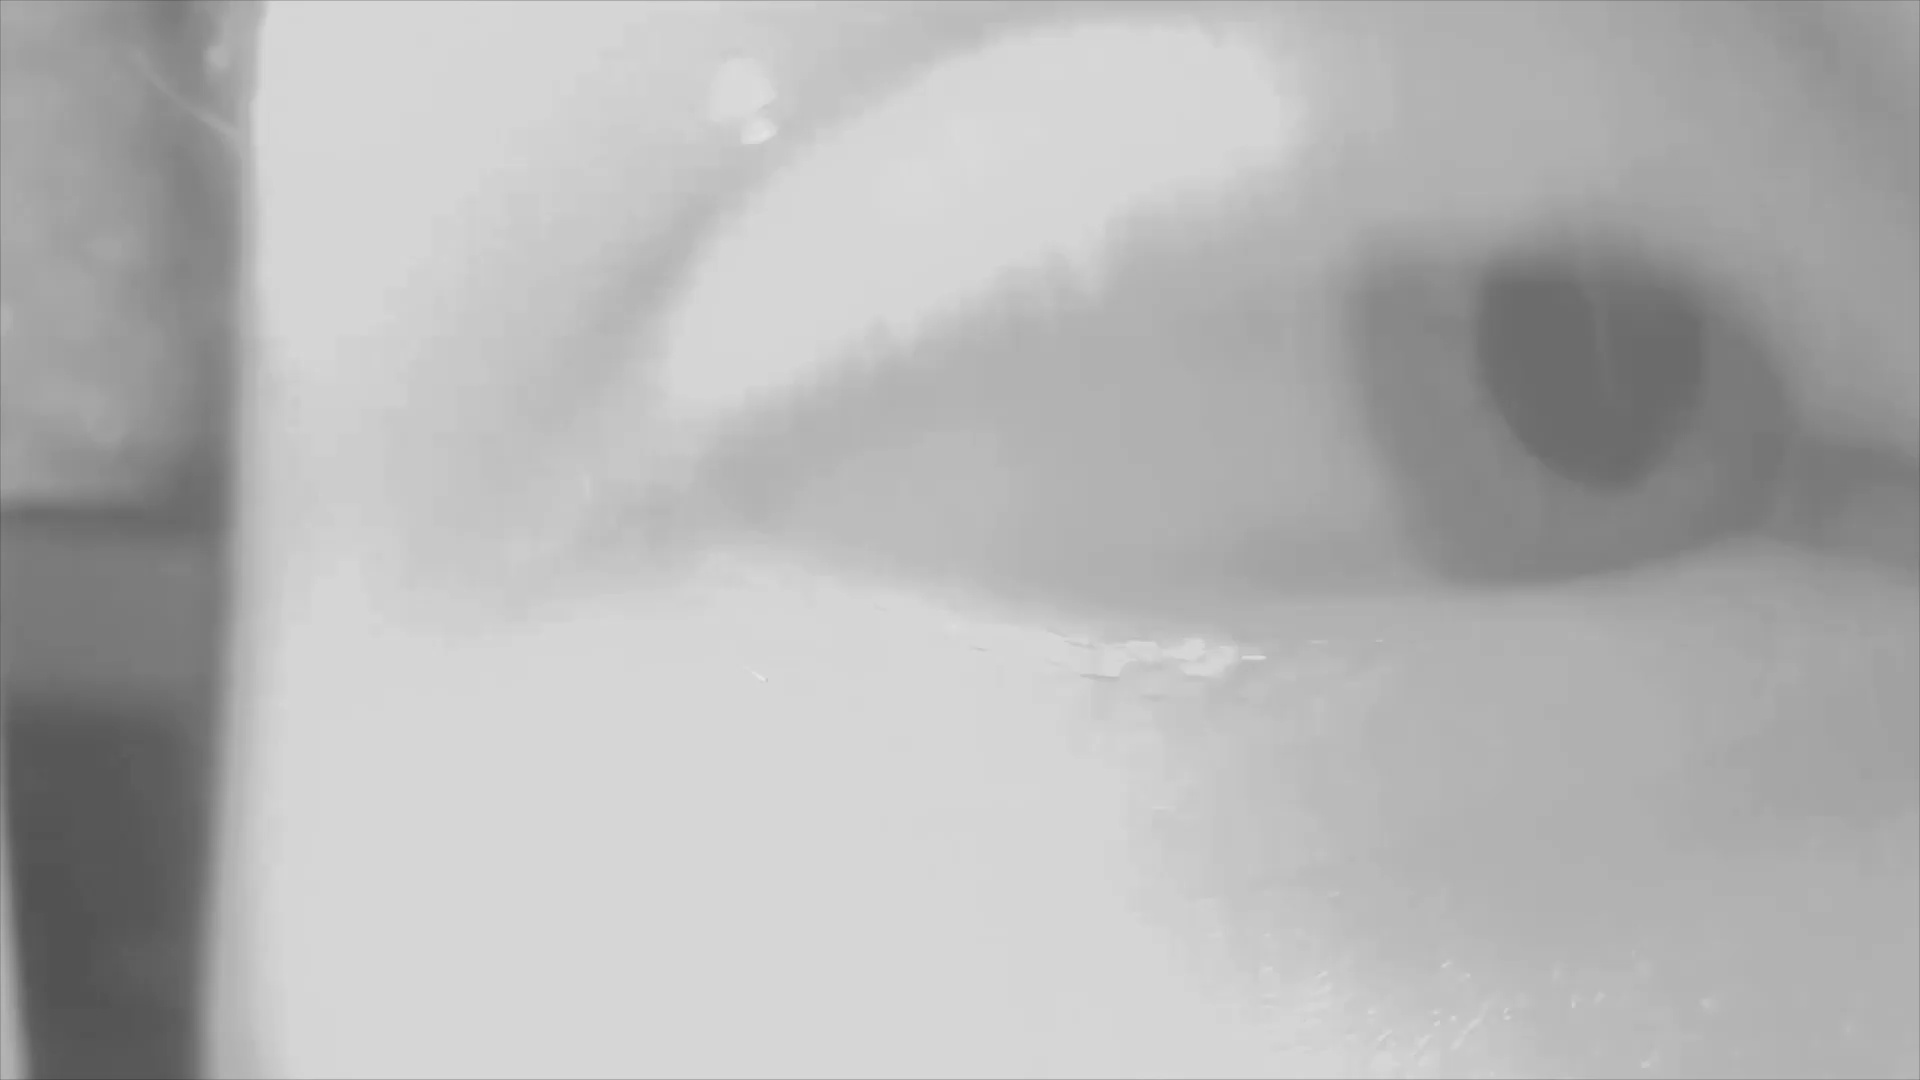pupil: (1477, 267, 1707, 487)
